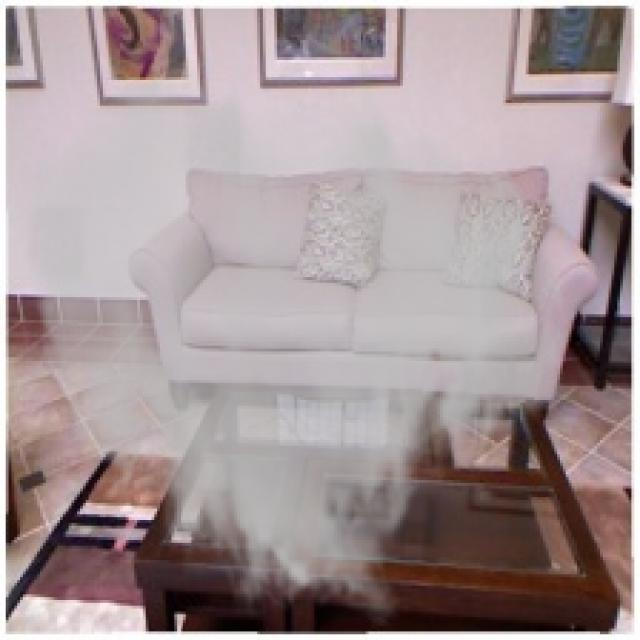Smoke: (11, 62, 572, 628)
